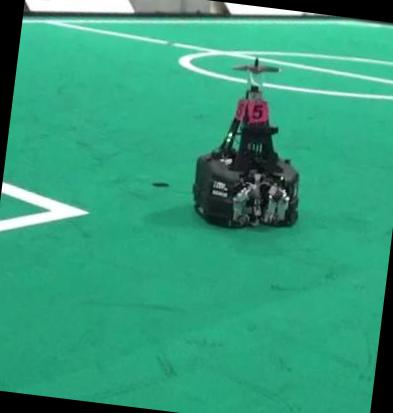robot: (192, 58, 298, 227)
